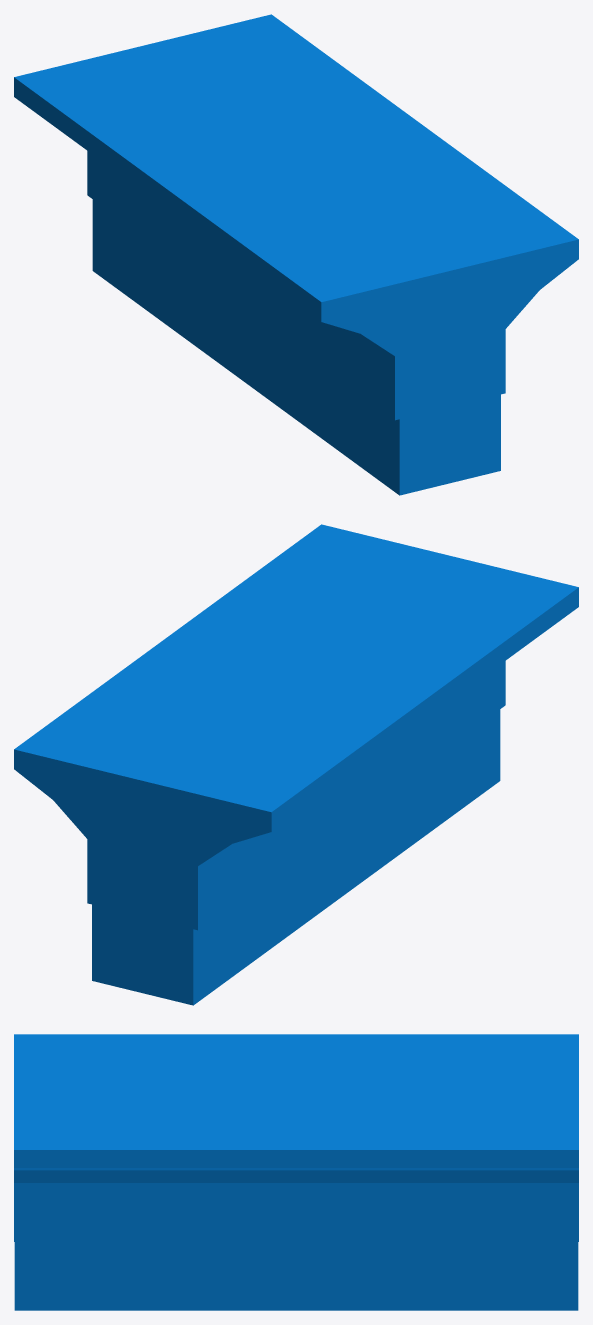
File: Pillar_Up_01_Lod0.fbx
The picture shows the model from 3 angles, top to bottom: view 1: azimuth 30°, elevation 25°; view 2: azimuth 150°, elevation 25°; view 3: azimuth 270°, elevation 25°; orthographic projection. The views are drawn at different scales.
Visible parts, largest first — view 1: Pillar_Up_01_Lod0; view 2: Pillar_Up_01_Lod0; view 3: Pillar_Up_01_Lod0.
Part boxes in pixels (x1=…): Pillar_Up_01_Lod0: x1=14, y1=14, x2=578, y2=495; Pillar_Up_01_Lod0: x1=14, y1=524, x2=578, y2=1005; Pillar_Up_01_Lod0: x1=14, y1=1034, x2=578, y2=1310.
Size of the model in its own units: 744 by 588 by 1540.
